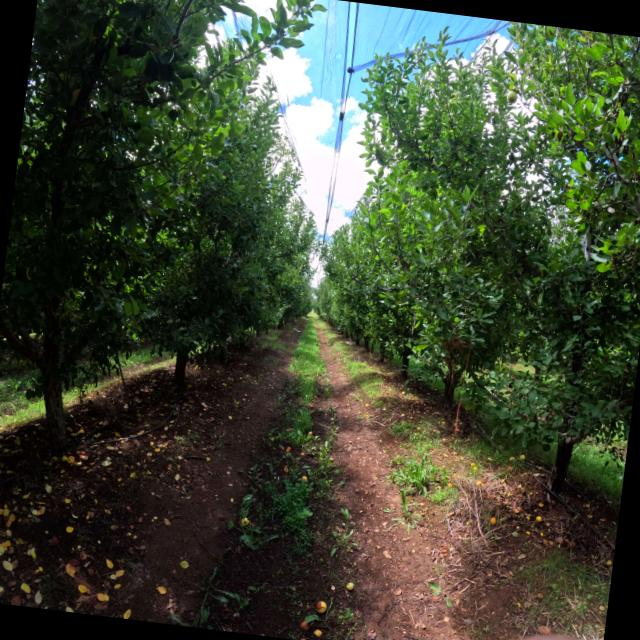-FireBlight-: (445, 335, 465, 367)
